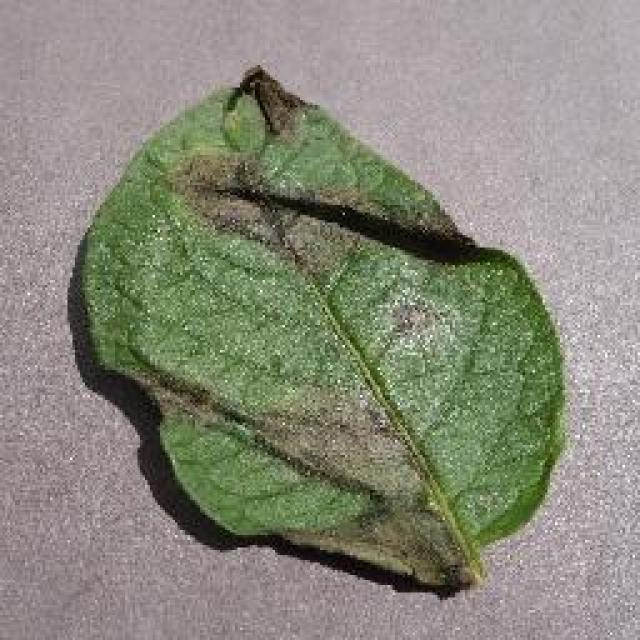late_blight: (65, 60, 570, 595)
